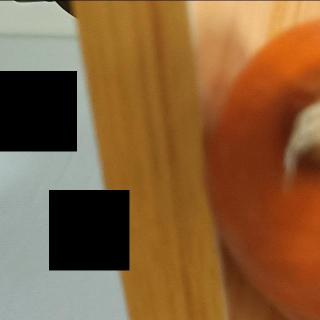carrot: (200, 5, 320, 320)
